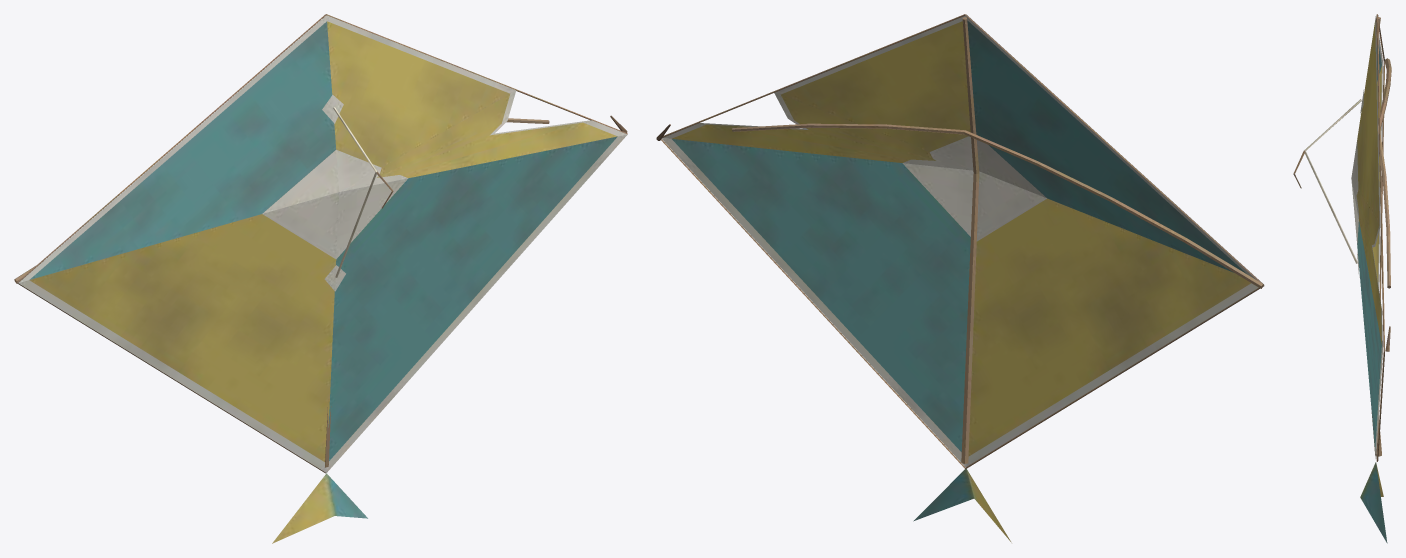
The model's file is SP10_kites_v2.glb.
3 renders of one model, left to right at view 1: azimuth 30°, elevation 25°; view 2: azimuth 150°, elevation 25°; view 3: azimuth 270°, elevation 25°, orthographic. The views are drawn at different scales.
Parts seen in each view (by area): view 1: Torn Fighter Kite; view 2: Torn Fighter Kite; view 3: Torn Fighter Kite.
Part boxes in pixels (box(x1,y1,x2,y2)): Torn Fighter Kite: box(14, 14, 627, 543); Torn Fighter Kite: box(656, 14, 1264, 542); Torn Fighter Kite: box(1293, 14, 1391, 543).
Bounding box in the file's own units: 0.8 × 0.6493 × 0.1141.
7 materials, 7 textured.
